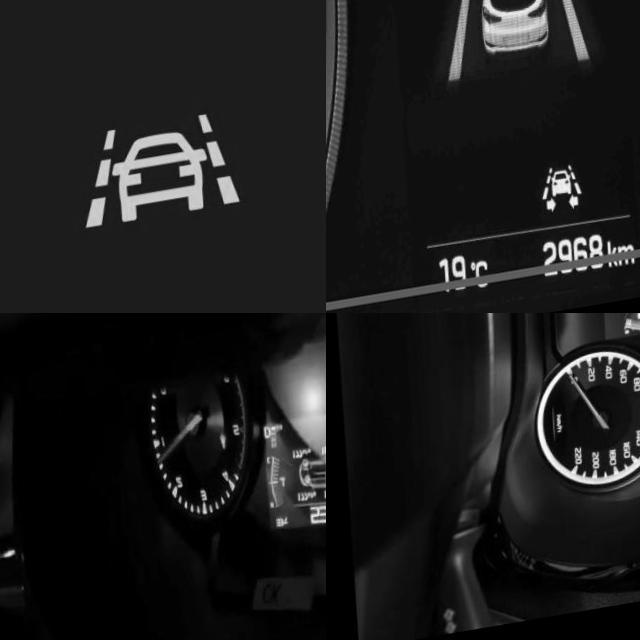Seat Belt: (214, 441, 223, 460)
